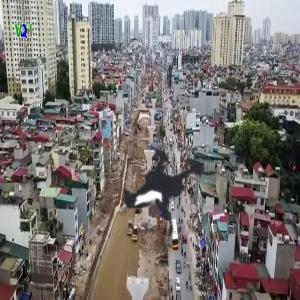drone: (65, 82, 261, 278)
